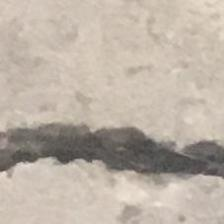Crack: (0, 105, 224, 210)
